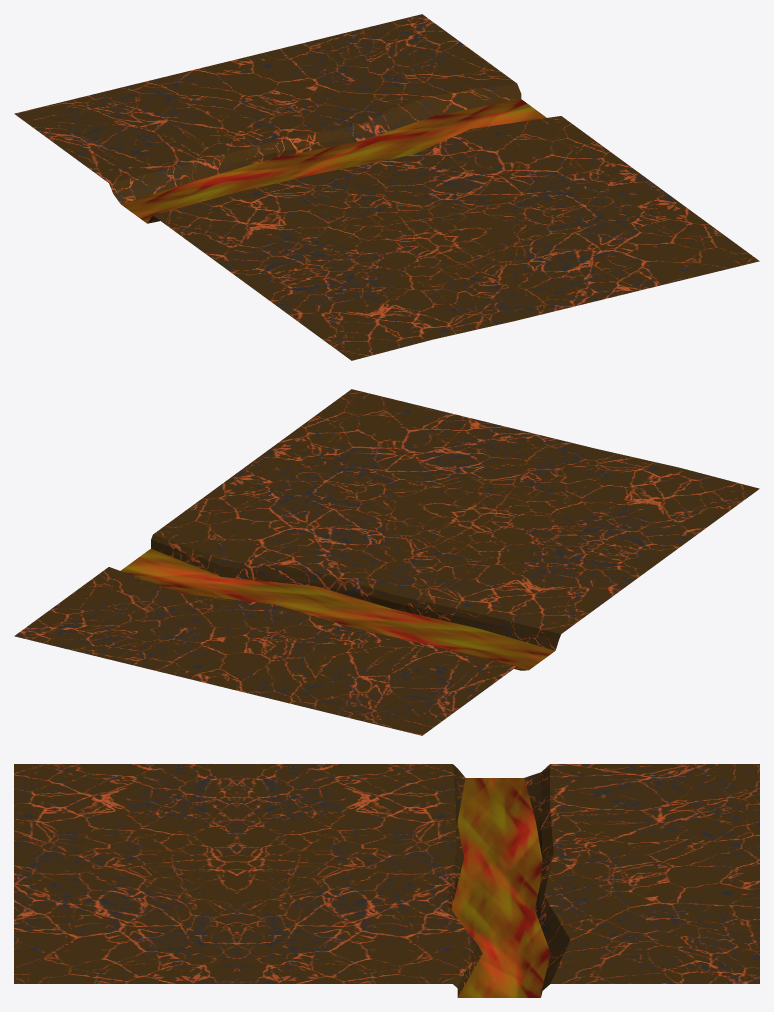
The model's file is Piso2.fbx.
3 renders of one model, top to bottom at view 1: azimuth 30°, elevation 25°; view 2: azimuth 150°, elevation 25°; view 3: azimuth 270°, elevation 25°, orthographic. The views are drawn at different scales.
Parts seen in each view (by area): view 1: piso; view 2: piso; view 3: piso.
Part boxes in pixels (bbox=[...]): piso: bbox=[14, 14, 759, 360]; piso: bbox=[14, 389, 759, 735]; piso: bbox=[14, 764, 759, 997].
Size of the model in its own units: 46.87 by 1.53 by 67.14.
